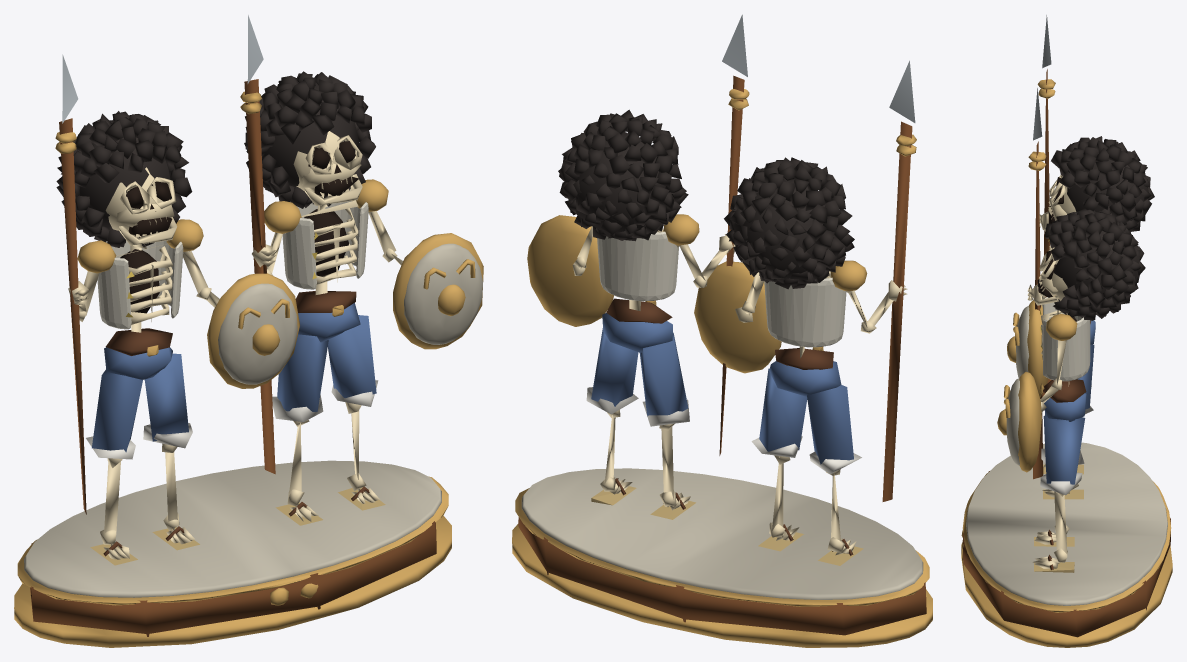
File: pirate_knight_l2.glb
The picture shows the model from 3 angles, left to right: view 1: azimuth 30°, elevation 25°; view 2: azimuth 150°, elevation 25°; view 3: azimuth 270°, elevation 25°; orthographic projection. The views are drawn at different scales.
Visible parts, largest first — view 1: FixedDetails, WoodBody, BrassTrim; view 2: FixedDetails, WoodBody, BrassTrim; view 3: FixedDetails, WoodBody, BrassTrim.
Part boxes in pixels (bbox=[...]): FixedDetails: bbox=[30, 15, 436, 636]; WoodBody: bbox=[24, 201, 482, 597]; BrassTrim: bbox=[14, 91, 483, 647]; FixedDetails: bbox=[518, 14, 926, 635]; WoodBody: bbox=[521, 231, 923, 599]; BrassTrim: bbox=[512, 89, 932, 647]; FixedDetails: bbox=[963, 15, 1170, 637]; WoodBody: bbox=[966, 297, 1167, 605]; BrassTrim: bbox=[961, 79, 1172, 647].
Size of the model in its own units: 0.4516 by 0.5712 by 0.2297.
